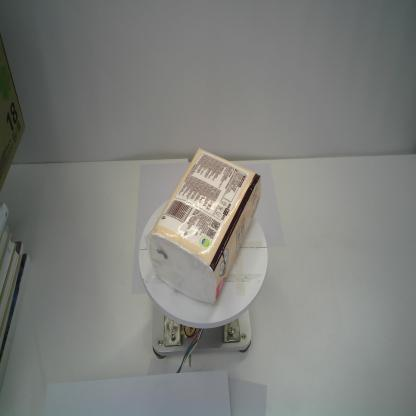Tissue: (143, 145, 262, 306)
